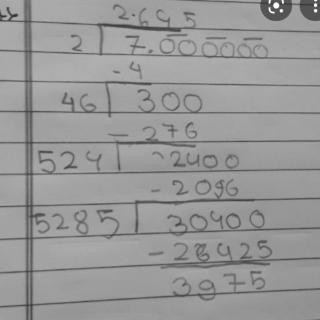.: (146, 48, 154, 54)
0: (158, 36, 177, 56)
2: (66, 28, 88, 55)
3: (166, 209, 187, 236)
4: (57, 88, 76, 114)
5: (33, 146, 57, 176)
6: (78, 89, 99, 114)
7: (123, 32, 146, 58)
